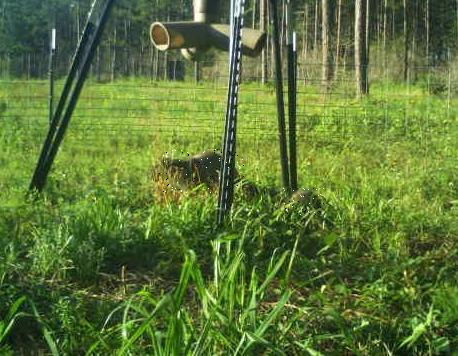Raccoon: (157, 149, 245, 193), (282, 189, 325, 216)
